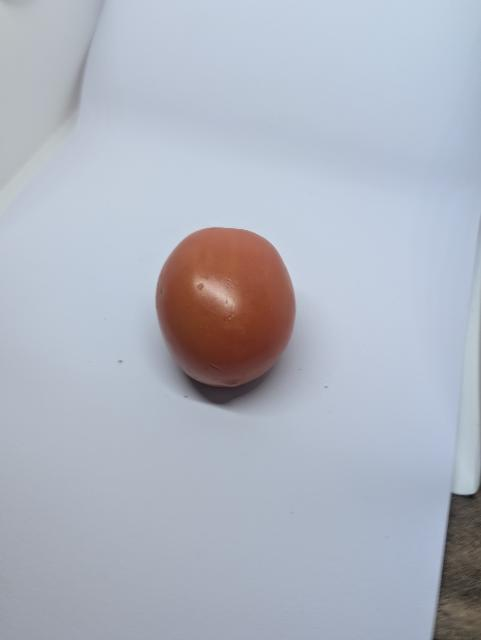red: (132, 214, 321, 414)
